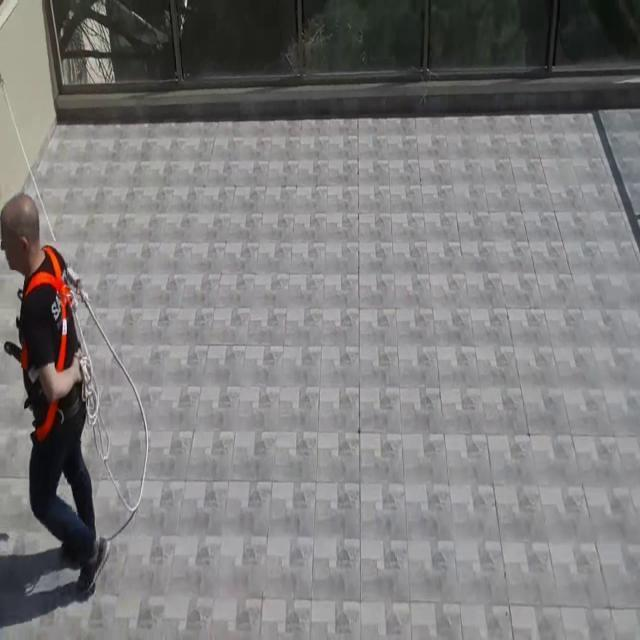Harness: (70, 275, 149, 540), (25, 246, 74, 374)
